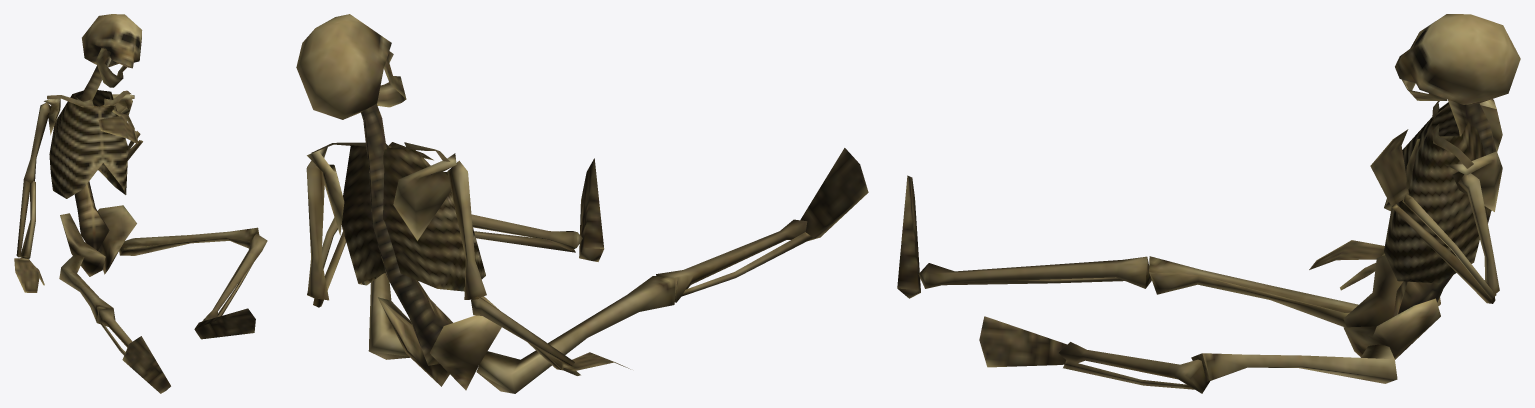
The model's file is Skeleton01.fbx.
The picture shows the model from 3 angles, left to right: view 1: azimuth 30°, elevation 25°; view 2: azimuth 150°, elevation 25°; view 3: azimuth 270°, elevation 25°; orthographic projection. The views are drawn at different scales.
Visible parts, largest first — view 1: Skeleton01; view 2: Skeleton01; view 3: Skeleton01.
Part boxes in pixels (bbox=[...]): Skeleton01: bbox=[14, 14, 267, 393]; Skeleton01: bbox=[296, 14, 868, 393]; Skeleton01: bbox=[897, 14, 1520, 393].
Size of the model in its own units: 18.13 by 17.77 by 25.86.
